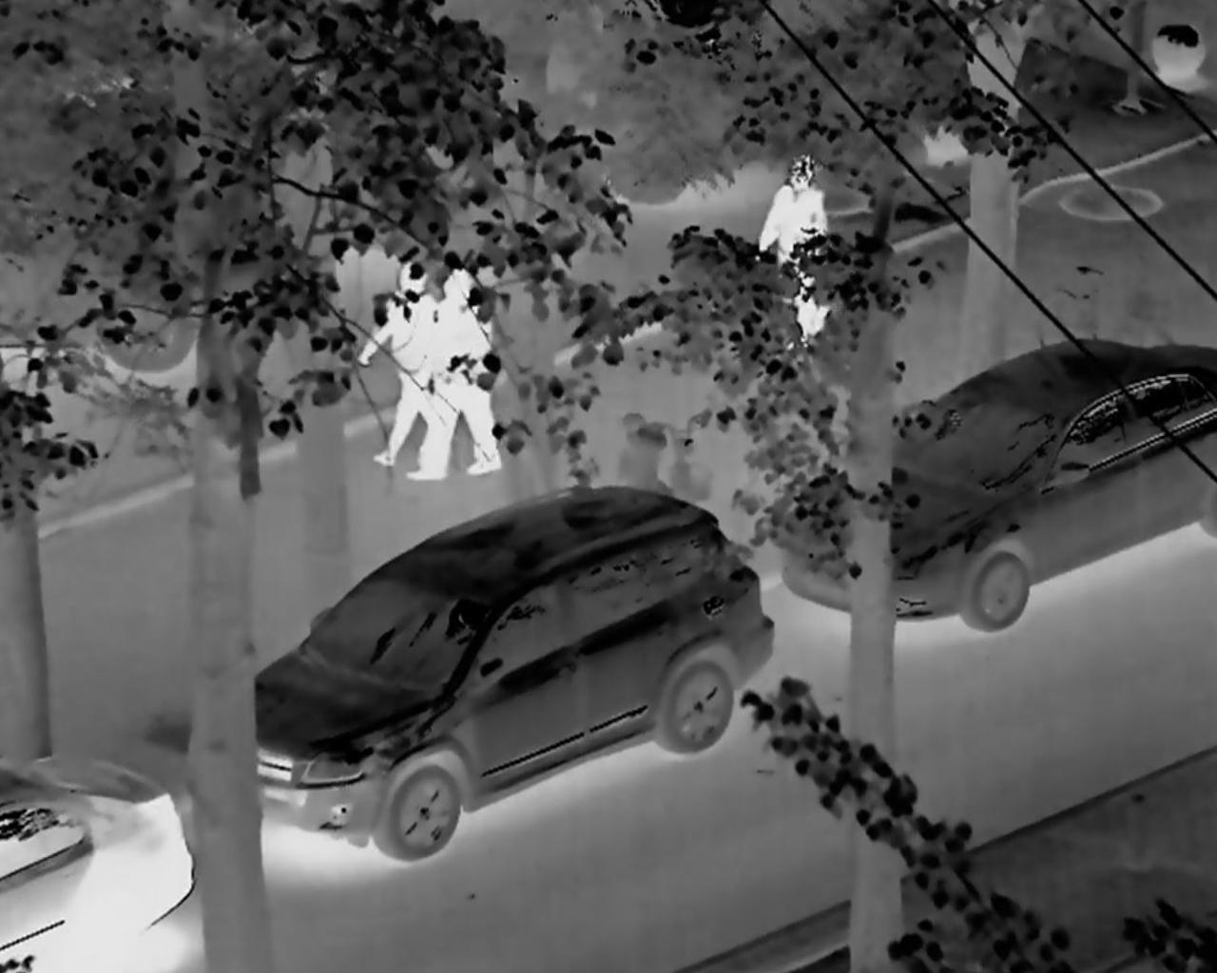person: (356, 239, 436, 480), (422, 253, 500, 479), (755, 143, 834, 334)
